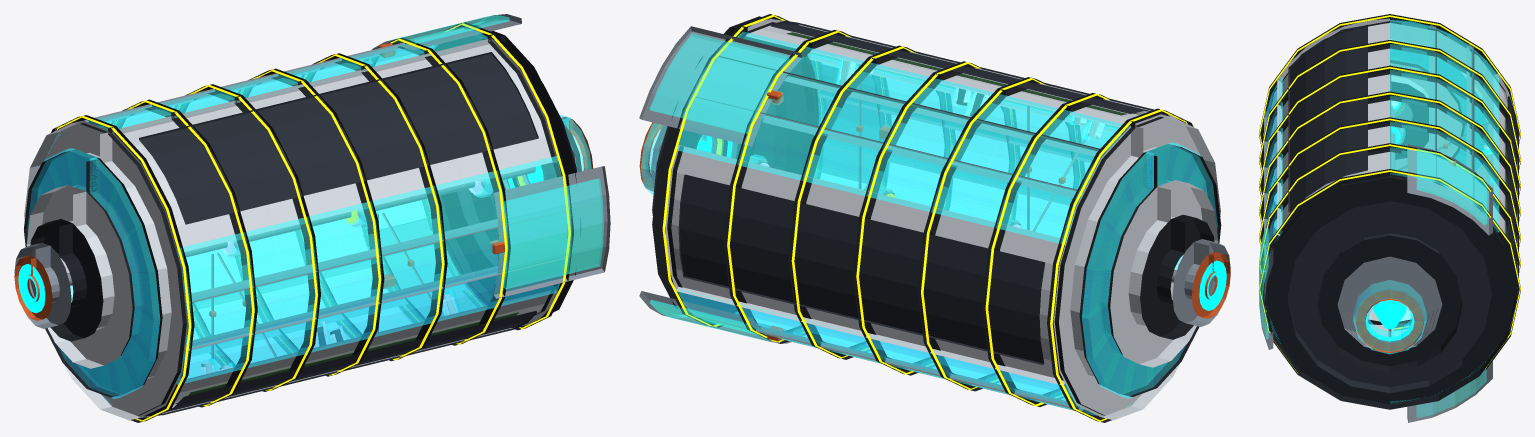
3 renders of one model, left to right at view 1: azimuth 30°, elevation 25°; view 2: azimuth 150°, elevation 25°; view 3: azimuth 270°, elevation 25°, orthographic. The views are drawn at different scales.
Parts seen in each view (by area): view 1: Cyl01_glass_cyan, Cyl01_carbon_slate, Cyl01_gunmetal, Cyl01_aero_white, Cyl01_steel_machined, Cyl01_glass_emerald, Cyl01_led_amber, Cyl01_accent_orange, Cyl01_led_cyan, Cyl01_foliage; view 2: Cyl01_glass_cyan, Cyl01_aero_white, Cyl01_carbon_slate, Cyl01_gunmetal, Cyl01_steel_machined, Cyl01_glass_emerald, Cyl01_led_amber, Cyl01_accent_orange, Cyl01_led_cyan, Cyl01_foliage; view 3: Cyl01_gunmetal, Cyl01_carbon_slate, Cyl01_glass_cyan, Cyl01_steel_machined, Cyl01_aero_white, Cyl01_led_amber, Cyl01_glass_emerald, Cyl01_accent_orange, Cyl01_led_cyan.
Boxes of the visible parts, left/top/right/bottom form: Cyl01_glass_cyan: left=27, top=29, right=591, bottom=404; Cyl01_carbon_slate: left=139, top=52, right=576, bottom=415; Cyl01_gunmetal: left=24, top=22, right=581, bottom=422; Cyl01_aero_white: left=24, top=38, right=557, bottom=420; Cyl01_steel_machined: left=14, top=14, right=610, bottom=358; Cyl01_glass_emerald: left=208, top=15, right=603, bottom=371; Cyl01_led_amber: left=55, top=23, right=570, bottom=421; Cyl01_accent_orange: left=14, top=43, right=593, bottom=320; Cyl01_led_cyan: left=18, top=146, right=576, bottom=371; Cyl01_foliage: left=174, top=312, right=519, bottom=404; Cyl01_glass_cyan: left=641, top=31, right=1217, bottom=415; Cyl01_aero_white: left=665, top=19, right=1220, bottom=420; Cyl01_carbon_slate: left=652, top=21, right=1153, bottom=365; Cyl01_gunmetal: left=652, top=14, right=1221, bottom=422; Cyl01_steel_machined: left=639, top=26, right=1230, bottom=417; Cyl01_glass_emerald: left=649, top=33, right=1090, bottom=340; Cyl01_led_amber: left=662, top=15, right=1187, bottom=421; Cyl01_accent_orange: left=639, top=90, right=1230, bottom=341; Cyl01_led_cyan: left=657, top=60, right=1226, bottom=310; Cyl01_foliage: left=786, top=32, right=1140, bottom=115; Cyl01_gunmetal: left=1259, top=14, right=1520, bottom=409; Cyl01_carbon_slate: left=1288, top=25, right=1518, bottom=393; Cyl01_glass_cyan: left=1263, top=20, right=1499, bottom=403; Cyl01_steel_machined: left=1259, top=25, right=1493, bottom=422; Cyl01_aero_white: left=1263, top=18, right=1517, bottom=336; Cyl01_led_amber: left=1259, top=15, right=1520, bottom=373; Cyl01_glass_emerald: left=1259, top=148, right=1492, bottom=417; Cyl01_accent_orange: left=1262, top=102, right=1455, bottom=352; Cyl01_led_cyan: left=1365, top=102, right=1493, bottom=341.
Size of the model in its own units: 800 by 400 by 400.
12 materials, 12 textured.
